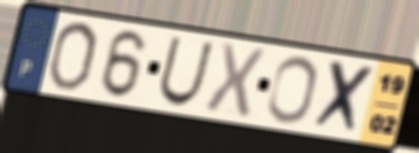6: (96, 28, 150, 101)
O: (264, 54, 320, 126), (45, 20, 101, 92)
U: (155, 34, 217, 108)
X: (308, 57, 379, 139), (201, 40, 268, 120)
